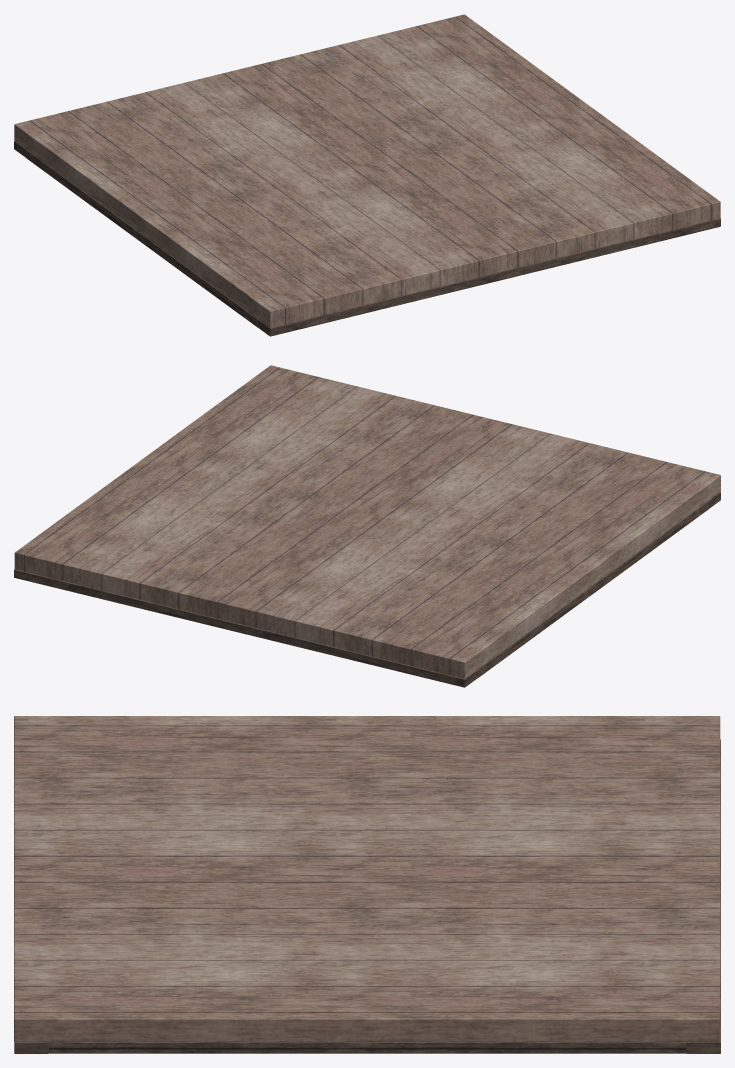
File: Stable_CeilingFlat_LP.glb
The picture shows the model from 3 angles, top to bottom: view 1: azimuth 30°, elevation 25°; view 2: azimuth 150°, elevation 25°; view 3: azimuth 270°, elevation 25°; orthographic projection. The views are drawn at different scales.
Parts seen in each view (by area): view 1: Stable_CeilingFlat_LP; view 2: Stable_CeilingFlat_LP; view 3: Stable_CeilingFlat_LP.
Boxes of the visible parts, left/top/right/bottom form: Stable_CeilingFlat_LP: left=14, top=14, right=720, bottom=336; Stable_CeilingFlat_LP: left=14, top=365, right=720, bottom=687; Stable_CeilingFlat_LP: left=14, top=716, right=720, bottom=1053.
Bounding box in the file's own units: 4.34 × 0.2333 × 4.27.
1 material, 1 textured.
